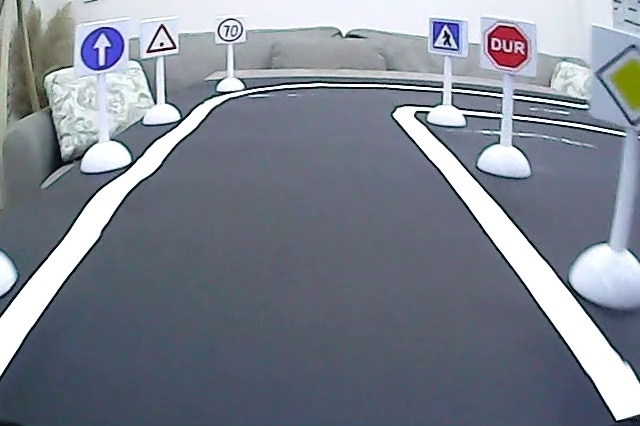green light: (144, 22, 179, 55)
pedestrian crossing: (430, 18, 464, 58)
speed limit 70: (216, 16, 245, 44)
stop sign: (481, 20, 533, 72)
